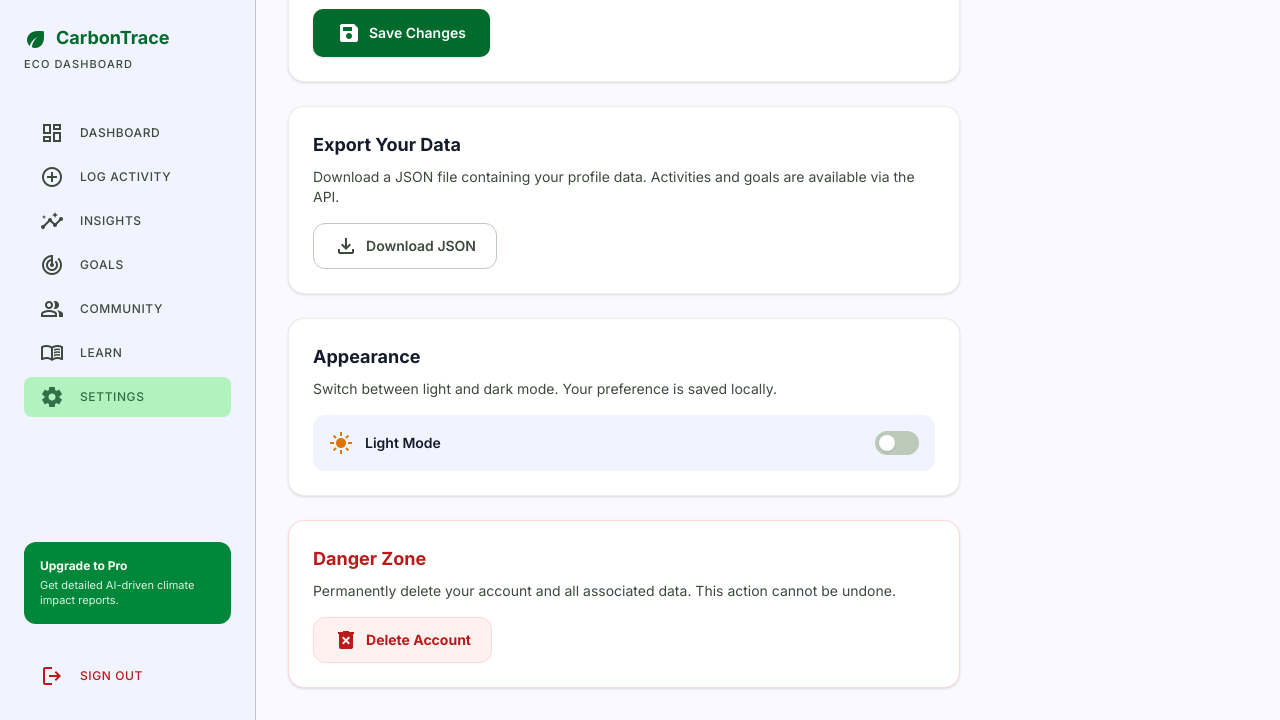
Scenario: SettingsPage › shows delete confirmation when Delete Account clicked
(page scrolled)
What coordinates should you click on to do the following:
click the button "Delete Account"
I would click on:
 (402, 640)
Its box is [313,616,492,662].
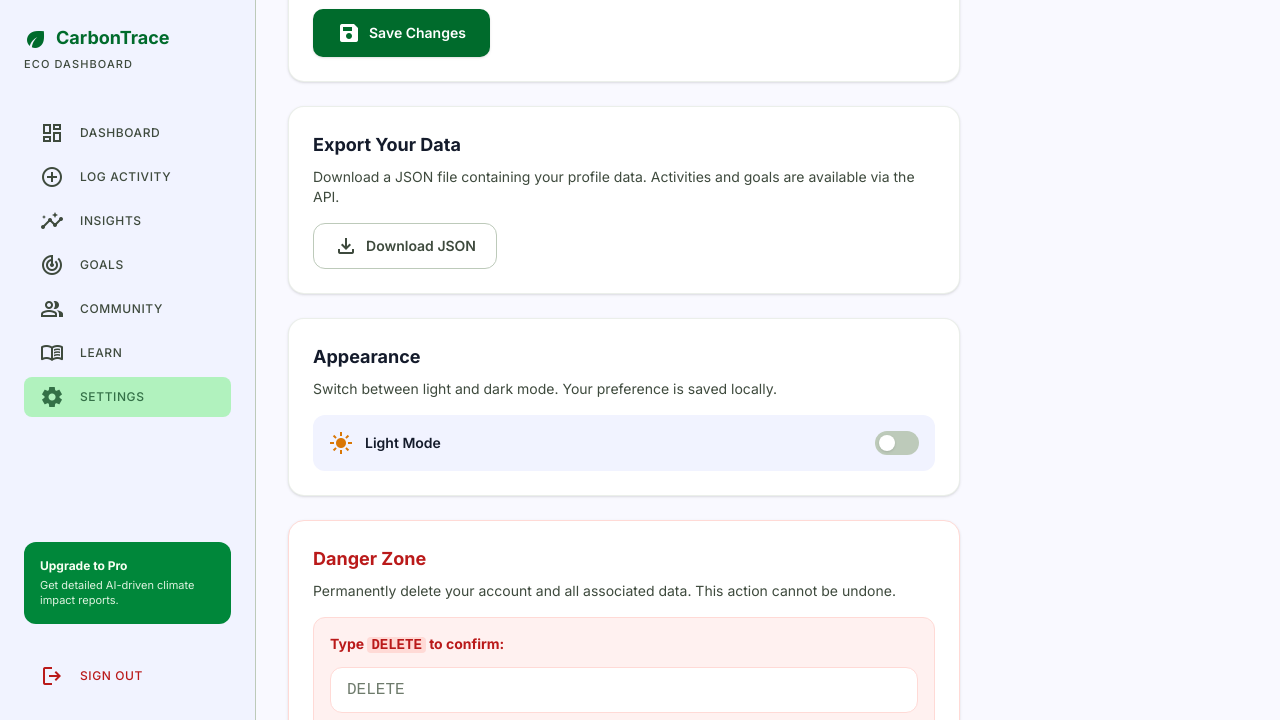
Expected: the field named "type delete to confirm" is shown, [330,666,918,712]
